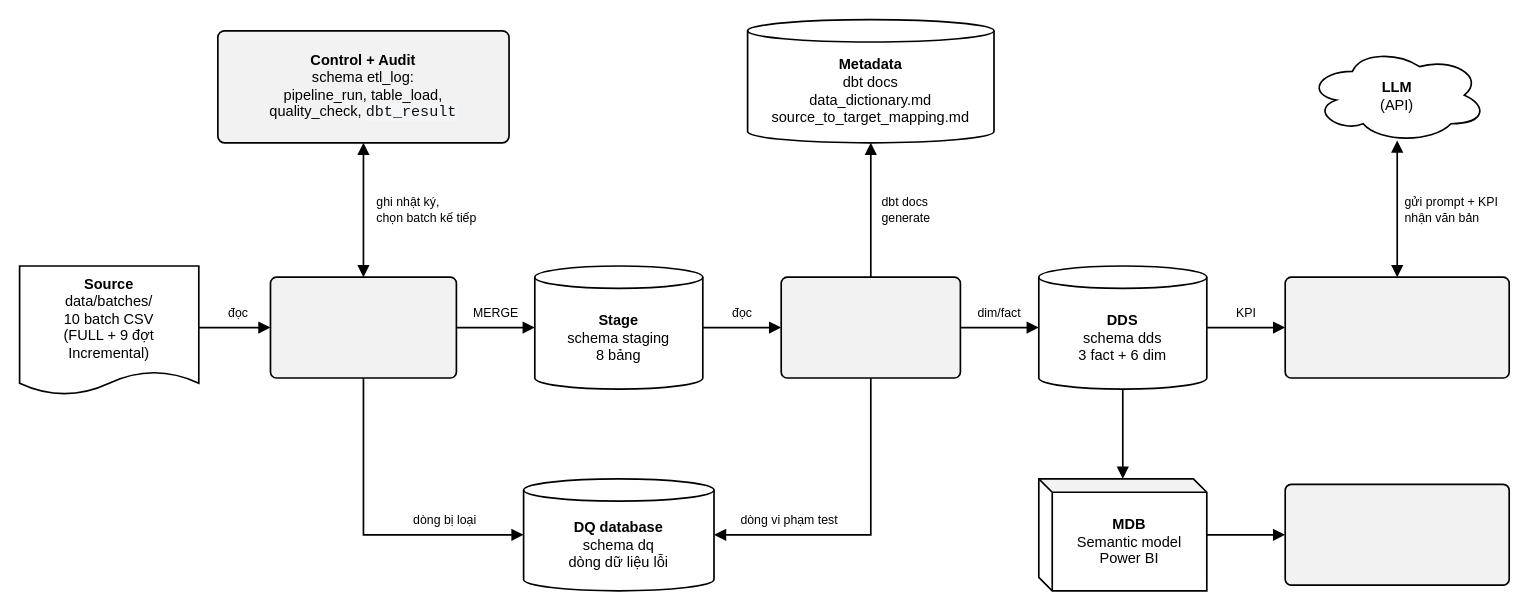
Image size: 1534x612. Some labels were removed from this diagram. Each missing label, with the box of its shape:
Application Dashboard Power BI: (1284, 483, 1510, 586)
Application Module AI: tóm tắt, giải thích, hỏi đáp: (1284, 276, 1510, 378)
DDS ETL + DQ dbt model + dbt test: (780, 276, 961, 378)
Stage ETL Mage.ai kiểm tra + MERGE: (269, 276, 457, 378)
